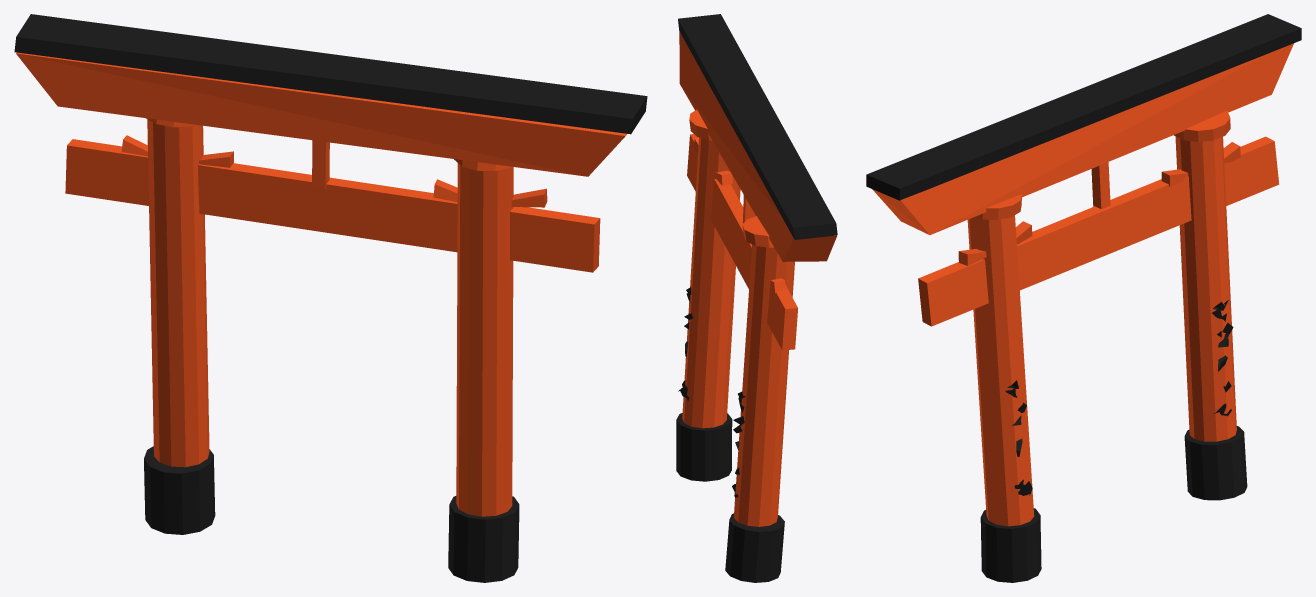
File: Torii.glb-transformed.glb
3 renders of one model, left to right at view 1: azimuth 30°, elevation 25°; view 2: azimuth 150°, elevation 25°; view 3: azimuth 270°, elevation 25°, orthographic. The views are drawn at different scales.
Visible parts, largest first — view 1: Node; view 2: Node; view 3: Node.
Boxes of the visible parts, box(x1,y1,x2,y2) form: Node: box(14, 14, 647, 582); Node: box(676, 14, 837, 582); Node: box(866, 14, 1301, 582).
Size of the model in its own units: 0.3428 by 0.3918 by 0.3637.
